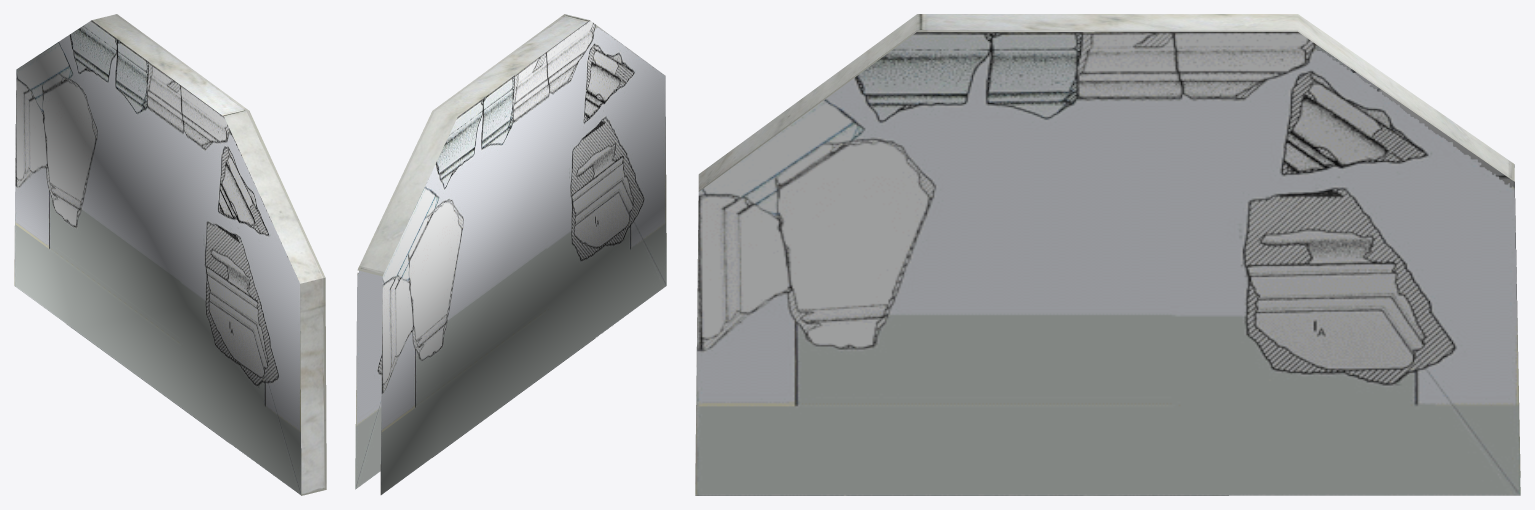
The model's file is SoleyaSBord.FBX.
The picture shows the model from 3 angles, left to right: view 1: azimuth 30°, elevation 25°; view 2: azimuth 150°, elevation 25°; view 3: azimuth 270°, elevation 25°; orthographic projection. The views are drawn at different scales.
Visible parts, largest first — view 1: Object008; view 2: Object008; view 3: Object008.
Boxes of the visible parts, x1,y1,x2,y2 form: Object008: (14, 14, 326, 495); Object008: (355, 14, 666, 494); Object008: (695, 14, 1520, 495).
Size of the model in its own units: 14.06 by 169 by 272.
